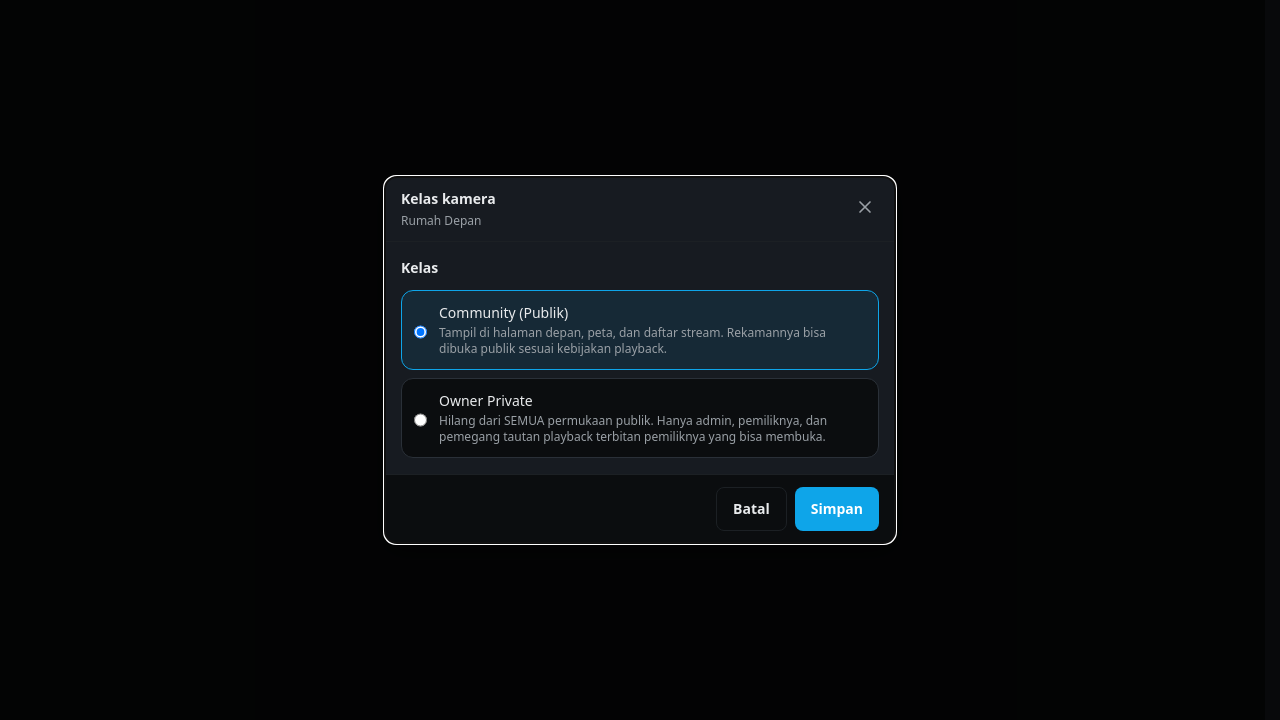
Test case: CameraClassModal — kelas kamera › memberi tahu saat daftar pengguna gagal dimuat, bukan diam-diam kosong
Click the radio button labelled "Owner Private".
click(420, 420)  # box [414,395,427,445]
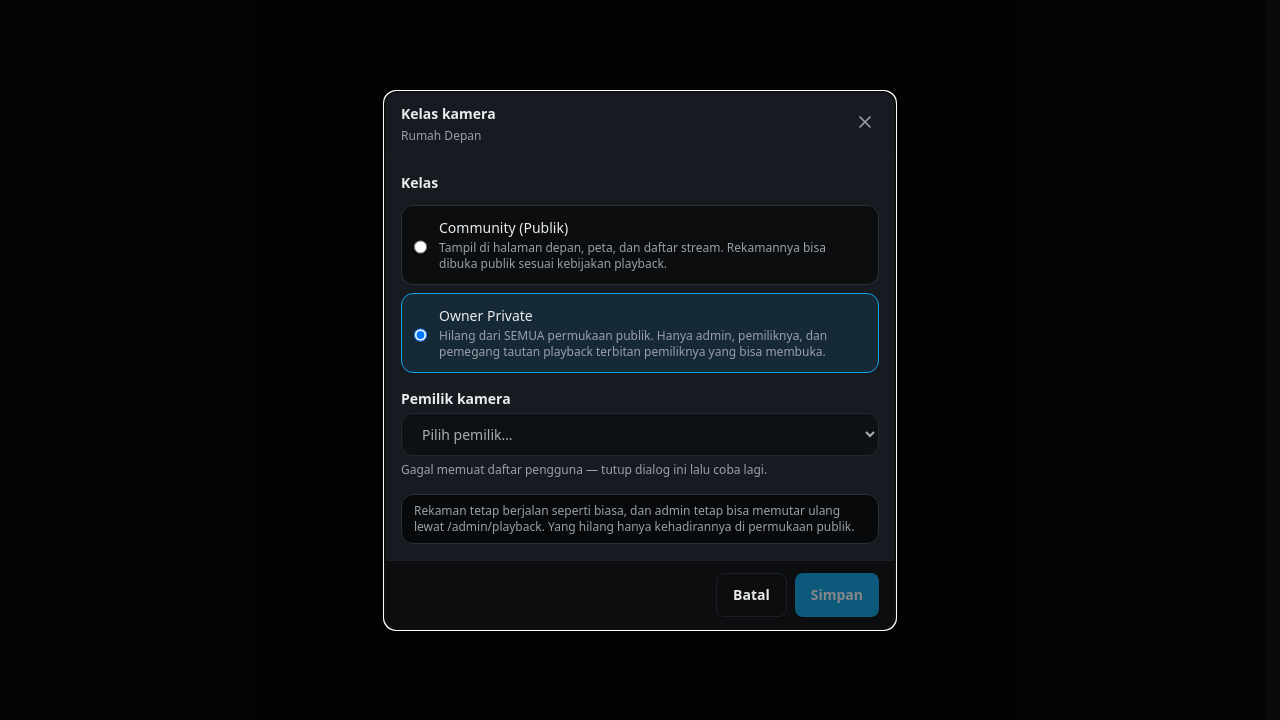
expect the text "Gagal memuat daftar pengguna" is shown: met, box [401,460,767,478]
expect the dropdown labelled "Pemilik kamera" is disabled: met, box [401,412,879,456]
